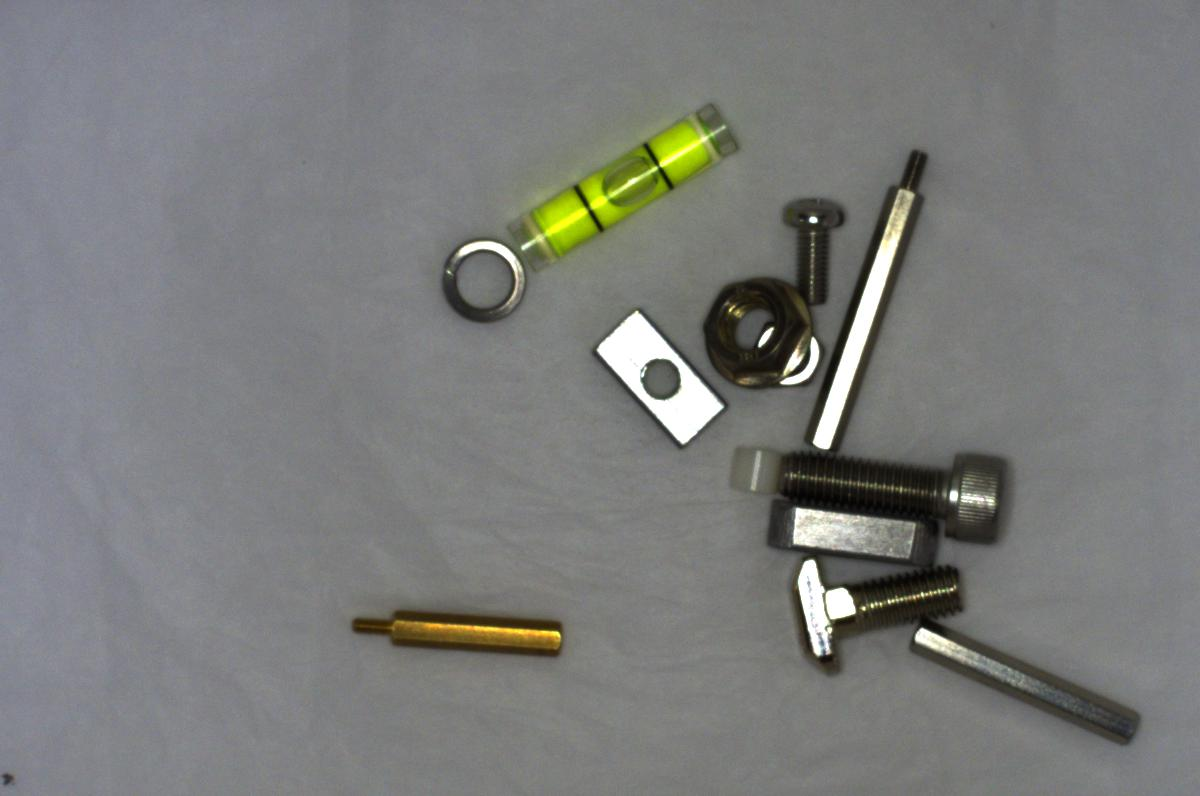Double hexagonal column: (902, 623, 1155, 750)
Flange nut: (689, 269, 817, 389)
Hexagon pillar: (329, 595, 569, 667)
Hexagon screw: (770, 436, 1014, 550)
Hexagonal steel column: (796, 141, 938, 453)
Horizontal bubble: (500, 103, 733, 268)
Keybar: (765, 492, 933, 573)
Plastic cushion pillar: (721, 427, 782, 504)
Rectangular nut: (587, 304, 732, 448)
Round head screw: (766, 181, 847, 314)
Spring washer: (432, 231, 537, 324)
T-shaped screw: (783, 548, 974, 672)
